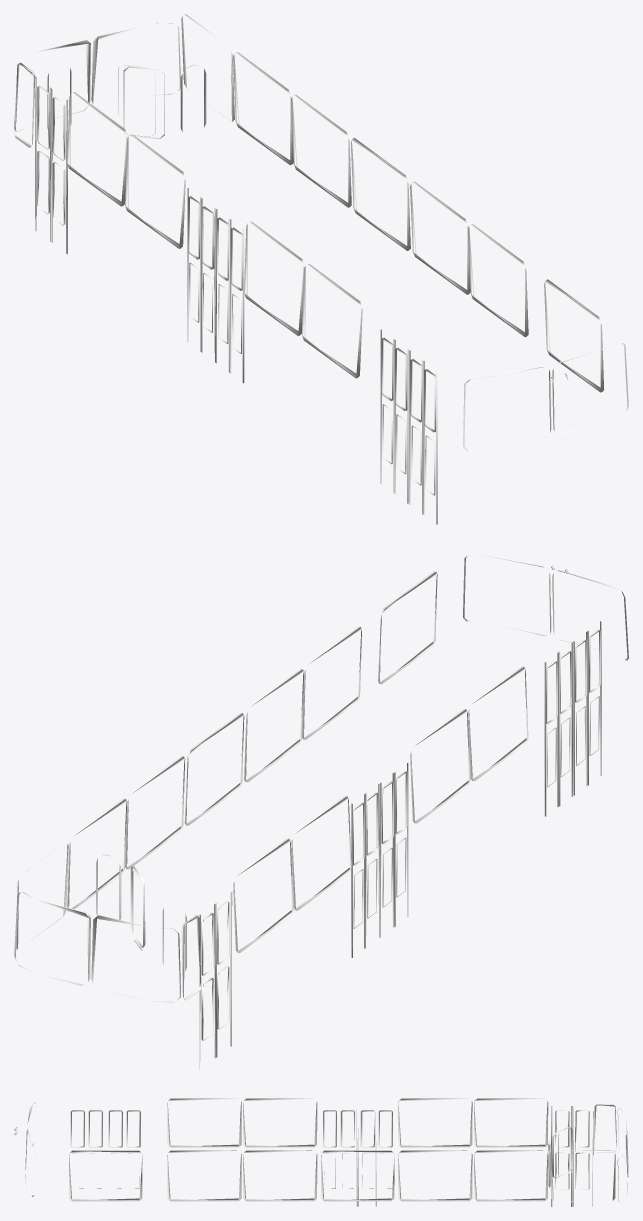
3 views of the same model, one above another, from view 1: azimuth 30°, elevation 25°; view 2: azimuth 150°, elevation 25°; view 3: azimuth 270°, elevation 25° (orthographic). The views are drawn at different scales.
Bounding box in the file's own units: 2.37 × 2.2 × 11.31.
1 material, 1 textured.
